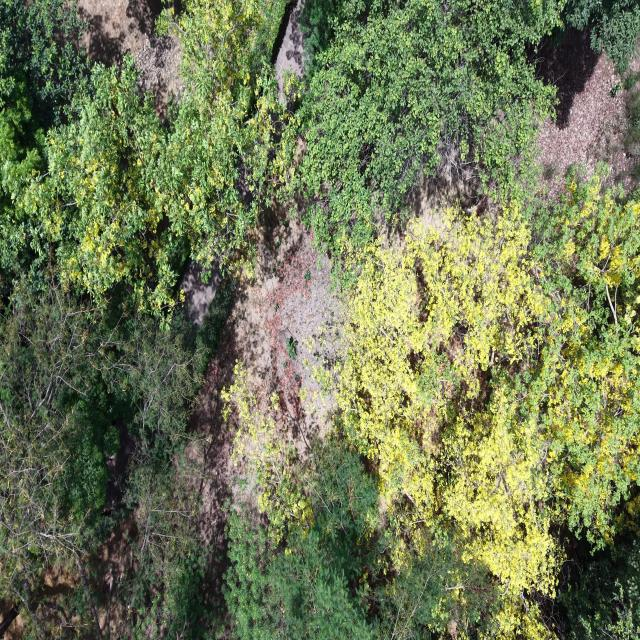DRY_AREA: (188, 211, 339, 606), (190, 209, 338, 599), (190, 212, 337, 602), (191, 211, 339, 597), (190, 211, 339, 594), (189, 211, 336, 599), (190, 213, 330, 599), (192, 212, 339, 557), (190, 209, 338, 550), (193, 212, 339, 551), (191, 214, 338, 541), (193, 210, 337, 453), (201, 214, 339, 455), (228, 214, 339, 453), (217, 214, 333, 430), (530, 29, 639, 195), (538, 29, 633, 188), (538, 30, 633, 188), (78, 0, 181, 113), (78, 0, 180, 114), (537, 29, 599, 130), (78, 0, 161, 65), (134, 36, 182, 115), (273, 0, 303, 98), (273, 0, 303, 94), (180, 260, 222, 326), (39, 566, 76, 617), (0, 600, 25, 639), (0, 601, 24, 639), (0, 602, 19, 636)
VEGETATION_TREE: (0, 0, 639, 639), (232, 174, 639, 638), (0, 3, 285, 637), (0, 3, 294, 315), (0, 274, 206, 636), (297, 0, 562, 253), (226, 431, 496, 638), (16, 58, 188, 312), (532, 174, 639, 546), (0, 280, 118, 613), (158, 0, 296, 270), (226, 441, 386, 639), (0, 0, 89, 279), (0, 0, 88, 147), (559, 530, 639, 639), (564, 0, 639, 72)
